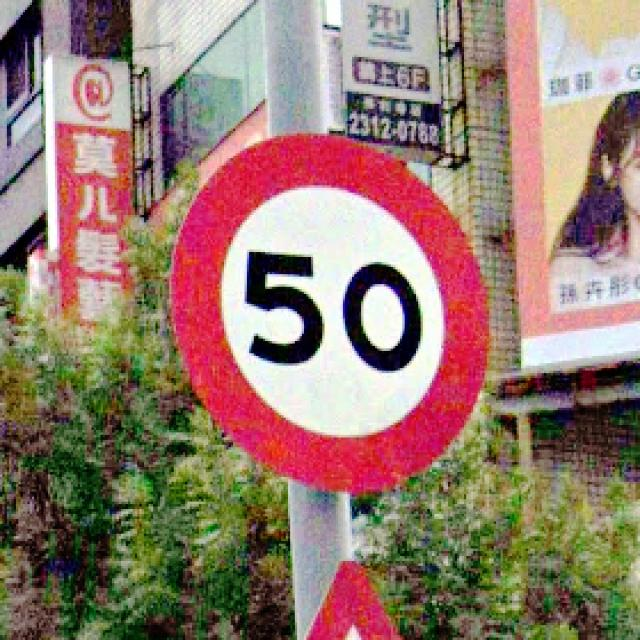max50: (164, 129, 492, 494)
